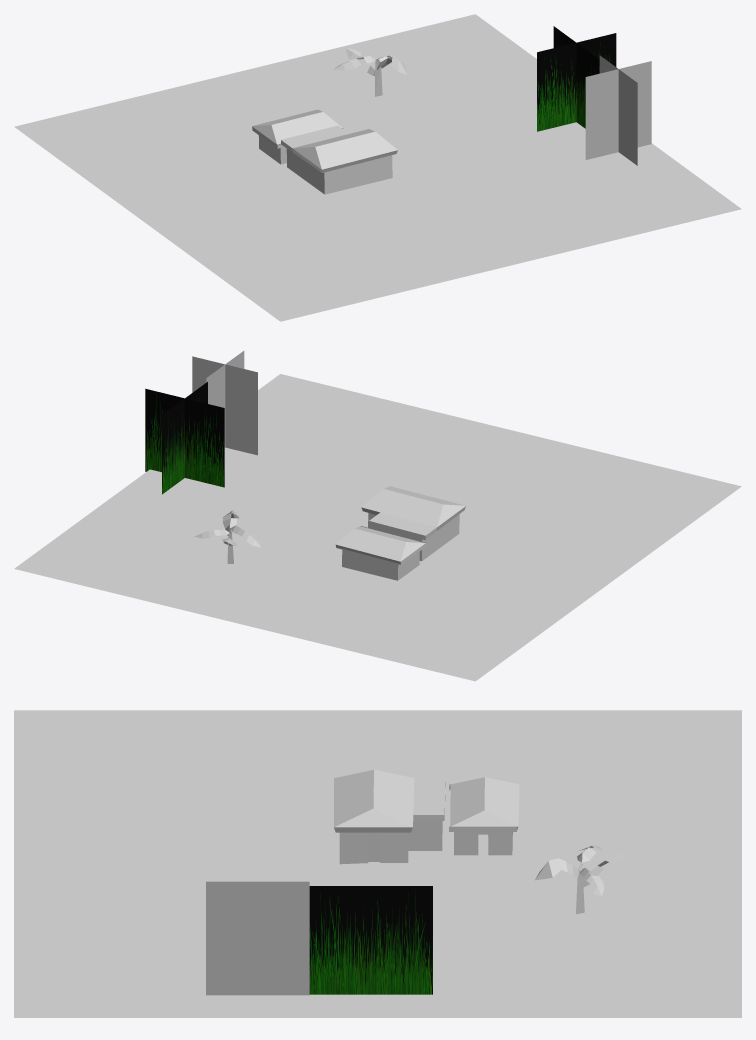
Rendered from Contoh envi1.fbx.
3 renders of one model, top to bottom at view 1: azimuth 30°, elevation 25°; view 2: azimuth 150°, elevation 25°; view 3: azimuth 270°, elevation 25°, orthographic. The views are drawn at different scales.
Visible parts, largest first — view 1: Plane.001, pngwing.com (3).001, pngwing.com (1), Atap.002, Pintu, pngwing.com (3), Atap, pngwing.com (1).001, Gudang; view 2: Plane.001, pngwing.com (1), Atap.002, pngwing.com (3).001, pngwing.com (1).001, Atap, Gudang, Pintu, pngwing.com (3); view 3: Plane.001, pngwing.com (1).001, pngwing.com (3), Atap.002, Atap, Pintu, Gudang, Cone.001.
Boxes of the visible parts, x1,y1,x2,y2 form: Plane.001: (14, 14, 741, 321); pngwing.com (3).001: (585, 61, 651, 159); pngwing.com (1): (537, 33, 616, 131); Atap.002: (281, 125, 397, 172); Pintu: (286, 148, 392, 194); pngwing.com (3): (599, 55, 637, 165); Atap: (252, 109, 342, 144); pngwing.com (1).001: (553, 26, 599, 128); Gudang: (252, 127, 343, 164); Plane.001: (14, 374, 741, 681); pngwing.com (1): (145, 388, 224, 487); Atap.002: (361, 486, 465, 539); pngwing.com (3).001: (192, 356, 257, 455); pngwing.com (1).001: (162, 382, 207, 494); Atap: (335, 526, 425, 563); Gudang: (336, 526, 426, 580); Pintu: (368, 513, 459, 561); pngwing.com (3): (206, 351, 244, 447); Plane.001: (14, 710, 741, 1017); pngwing.com (1).001: (309, 886, 432, 994); pngwing.com (3): (206, 881, 309, 995); Atap.002: (334, 769, 445, 832); Atap: (450, 777, 519, 829); Pintu: (339, 821, 442, 864); Gudang: (449, 784, 516, 855); Cone.001: (535, 858, 578, 880).
Size of the model in its own units: 7622 by 1353 by 7546.
